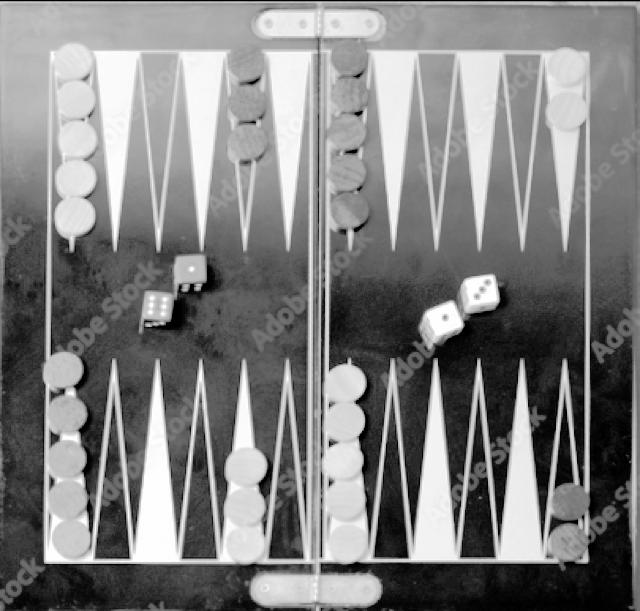board: (42, 33, 595, 571)
dark_p: (225, 121, 270, 167), (328, 189, 374, 234), (223, 40, 268, 83), (546, 521, 589, 566), (48, 518, 94, 560), (225, 84, 272, 125), (327, 152, 371, 195), (45, 437, 90, 479), (46, 481, 93, 521), (328, 37, 372, 79), (42, 350, 87, 391), (548, 481, 593, 522), (45, 395, 89, 435), (325, 112, 368, 152), (327, 77, 370, 115)
dice: (416, 297, 469, 347), (137, 289, 182, 335), (460, 269, 502, 315), (172, 254, 214, 293)
light_p: (223, 523, 272, 567), (54, 196, 99, 242), (324, 479, 369, 525), (224, 488, 271, 529), (225, 445, 268, 489), (326, 522, 370, 565), (544, 92, 589, 133), (54, 79, 98, 120), (323, 401, 367, 442), (55, 119, 99, 159), (52, 42, 94, 83), (325, 365, 367, 406), (545, 47, 588, 87), (322, 442, 366, 481), (55, 161, 98, 198)
